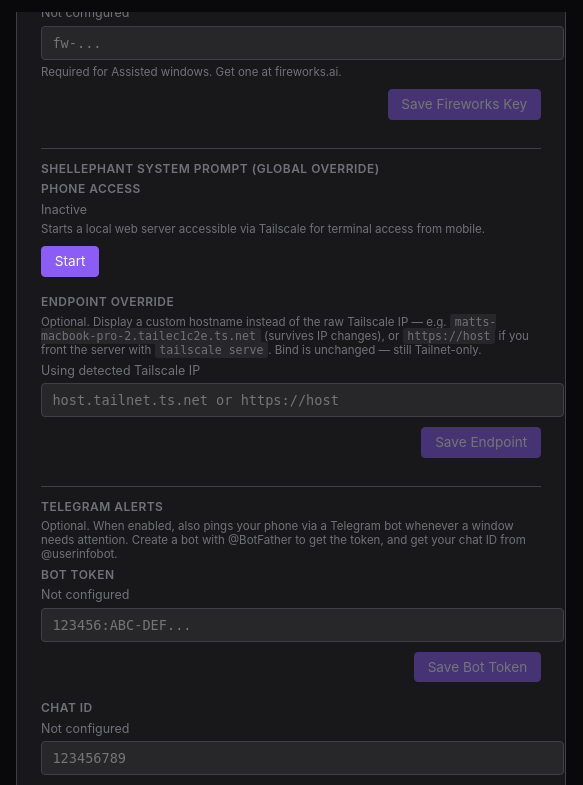
Test: SettingsView › Phone Access section › starts server and shows URL on click
Click the button with aria-label "Phone Access".
click(70, 262)  # box left=41, top=246, right=99, bottom=277
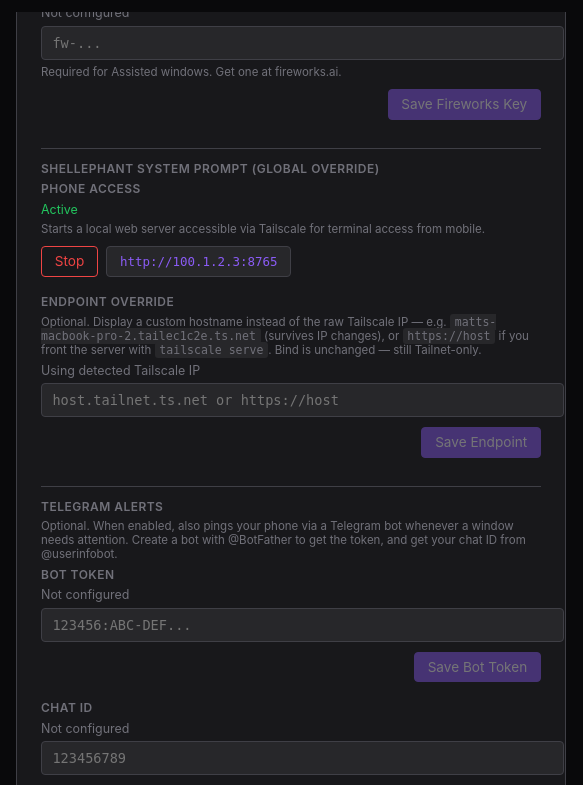
expect the button titled "http://100.1.2.3:8765" is shown: met, box left=106, top=246, right=291, bottom=277
